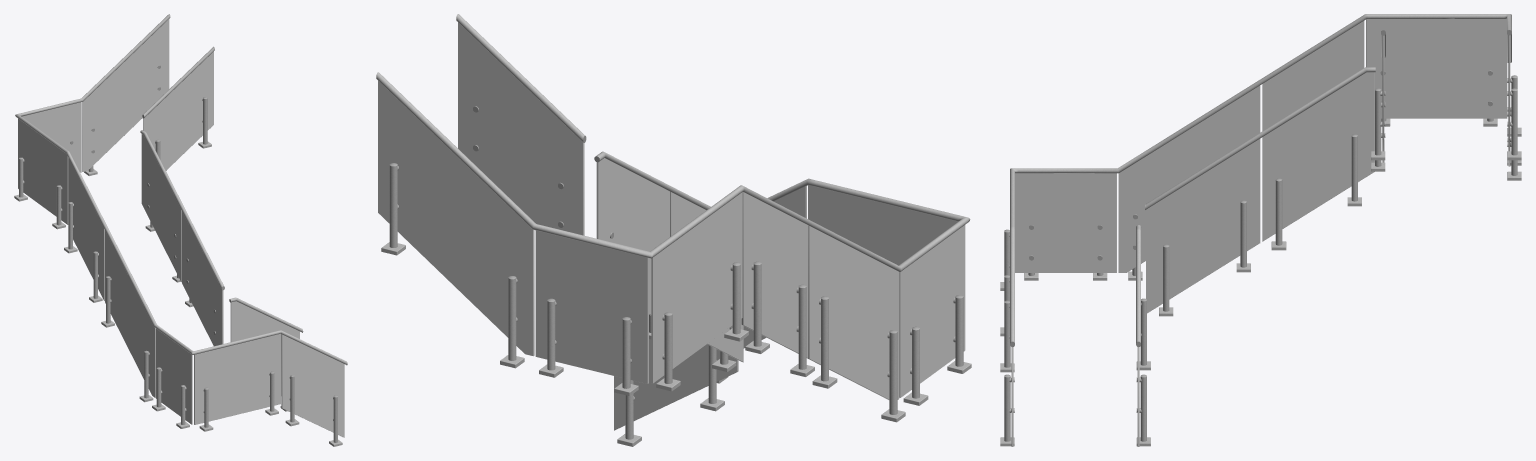
The model's file is U-Shaped_Railing_Lo-Post_Round.gltf.
3 renders of one model, left to right at view 1: azimuth 30°, elevation 25°; view 2: azimuth 150°, elevation 25°; view 3: azimuth 270°, elevation 25°, orthographic. The views are drawn at different scales.
Parts seen in each view (by area): view 1: Casework 1 Casework 1 [8738332], Infill_Glass_Raked & Horizontal Generic [8738822]001, Infill_Glass_Raked & Horizontal Generic [8739593]001, Infill_Glass_Raked & Horizontal Generic [8199751], Casework 1 Casework 1 [8738332]001, Infill_Glass_Raked & Horizontal Generic [8738822], Infill_Glass_Transition Generic [8202170], Infill_Glass_Raked & Horizontal Generic [8199751]001, Infill_Glass_Raked & Horizontal Generic [8739593], Infill_Glass_Raked & Horizontal Generic [8737682]001, Infill_Glass_Raked & Horizontal Generic [8737682], Infill_Glass_Transition Generic [8202170]001 (+5 smaller); view 2: Casework 1 Casework 1 [8738332], Infill_Glass_Raked & Horizontal Generic [8199751], Infill_Glass_Raked & Horizontal Generic [8737682], Casework 1 Casework 1 [8738332]001, Infill_Glass_Raked & Horizontal Generic [8738822], Infill_Glass_Raked & Horizontal Generic [8739593], Infill_Glass_Raked & Horizontal Generic [8737682]001, LS103 & LS116 - Circum Round Post Material LS Material [9209 (×10), Infill_Glass_Raked & Horizontal Generic [8738822]001, Infill_Glass_Transition Generic [8202170], Infill_Glass_Transition Generic [8202170]001, Object (+7 smaller); view 3: Infill_Glass_Raked & Horizontal Generic [8738822], Infill_Glass_Raked & Horizontal Generic [8199751]001, Infill_Glass_Transition Generic [8202170], Infill_Glass_Raked & Horizontal Generic [8737682]001, Casework 1 Casework 1 [8738332]001, Infill_Glass_Raked & Horizontal Generic [8739593], Generic Models 1 Generic Models 1 [8568048], Generic Models 10 Generic Models 1 [8735975], Object, Object013, Generic Models 1 Generic Models 1 [8568048]001, Object006 (+2 smaller).
Part boxes in pixels (x1=…): Casework 1 Casework 1 [8738332]: x1=82, y1=19, x2=169, y2=171; Infill_Glass_Raked & Horizontal Generic [8738822]001: x1=194, y1=333, x2=280, y2=424; Infill_Glass_Raked & Horizontal Generic [8739593]001: x1=281, y1=334, x2=344, y2=437; Infill_Glass_Raked & Horizontal Generic [8199751]: x1=143, y1=51, x2=213, y2=170; Casework 1 Casework 1 [8738332]001: x1=105, y1=230, x2=155, y2=397; Infill_Glass_Raked & Horizontal Generic [8738822]: x1=18, y1=118, x2=68, y2=224; Infill_Glass_Transition Generic [8202170]: x1=141, y1=134, x2=181, y2=282; Infill_Glass_Raked & Horizontal Generic [8199751]001: x1=182, y1=211, x2=223, y2=346; Infill_Glass_Raked & Horizontal Generic [8739593]: x1=68, y1=158, x2=104, y2=300; Infill_Glass_Raked & Horizontal Generic [8737682]001: x1=155, y1=328, x2=192, y2=424; Infill_Glass_Raked & Horizontal Generic [8737682]: x1=22, y1=102, x2=81, y2=172; Infill_Glass_Transition Generic [8202170]001: x1=230, y1=301, x2=299, y2=395; Casework 1 Casework 1 [8738332]: x1=378, y1=81, x2=534, y2=356; Infill_Glass_Raked & Horizontal Generic [8199751]: x1=458, y1=22, x2=584, y2=235; Infill_Glass_Raked & Horizontal Generic [8737682]: x1=535, y1=230, x2=648, y2=383; Casework 1 Casework 1 [8738332]001: x1=808, y1=225, x2=899, y2=399; Infill_Glass_Raked & Horizontal Generic [8738822]: x1=651, y1=192, x2=742, y2=383; Infill_Glass_Raked & Horizontal Generic [8739593]: x1=741, y1=192, x2=808, y2=358; Infill_Glass_Raked & Horizontal Generic [8737682]001: x1=899, y1=225, x2=965, y2=397; LS103 & LS116 - Circum Round Post Material LS Material [9209 (×10): x1=389, y1=166, x2=963, y2=414; Infill_Glass_Raked & Horizontal Generic [8738822]001: x1=808, y1=185, x2=957, y2=265; Infill_Glass_Transition Generic [8202170]: x1=596, y1=158, x2=669, y2=315; Infill_Glass_Transition Generic [8202170]001: x1=614, y1=339, x2=738, y2=430; Object: x1=376, y1=72, x2=741, y2=258; Infill_Glass_Raked & Horizontal Generic [8738822]: x1=1366, y1=19, x2=1507, y2=118; Infill_Glass_Raked & Horizontal Generic [8199751]001: x1=1146, y1=139, x2=1260, y2=313; Infill_Glass_Transition Generic [8202170]: x1=1262, y1=72, x2=1374, y2=241; Infill_Glass_Raked & Horizontal Generic [8737682]001: x1=1015, y1=173, x2=1116, y2=272; Casework 1 Casework 1 [8738332]001: x1=1118, y1=85, x2=1260, y2=272; Infill_Glass_Raked & Horizontal Generic [8739593]: x1=1262, y1=21, x2=1364, y2=131; Generic Models 1 Generic Models 1 [8568048]: x1=1145, y1=67, x2=1375, y2=209; Generic Models 10 Generic Models 1 [8735975]: x1=1166, y1=14, x2=1370, y2=142; Object: x1=1371, y1=14, x2=1511, y2=62; Object013: x1=1053, y1=138, x2=1167, y2=173; Generic Models 1 Generic Models 1 [8568048]001: x1=1136, y1=225, x2=1141, y2=347; Object006: x1=1010, y1=226, x2=1014, y2=347.
Size of the model in its own units: 1.98 by 3.49 by 3.92.
